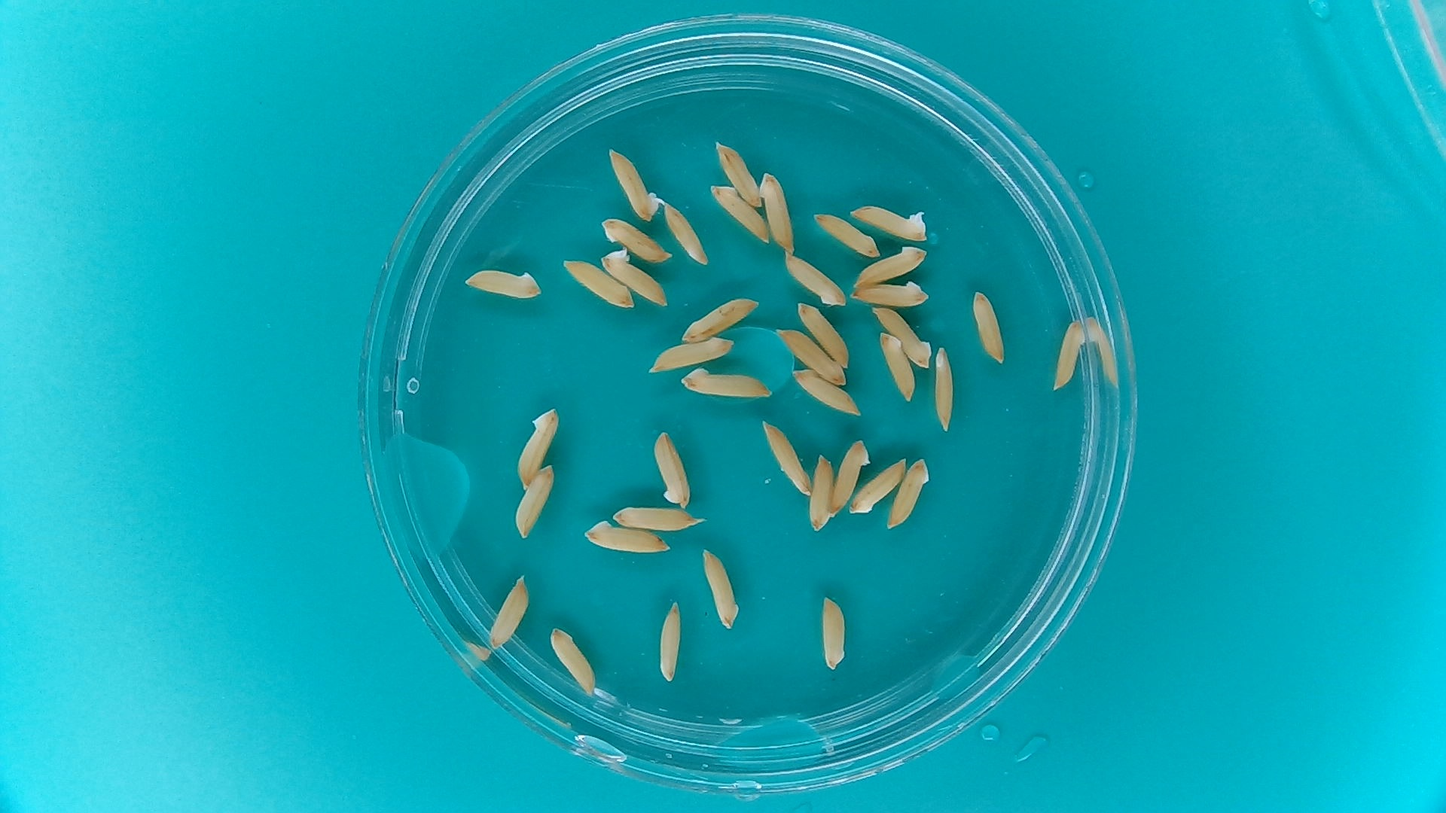no: (601, 246, 670, 308), (607, 147, 663, 222), (776, 328, 847, 385), (871, 306, 932, 370), (763, 419, 813, 496), (515, 408, 561, 491), (709, 184, 770, 245), (848, 199, 932, 243), (791, 367, 863, 418), (563, 259, 635, 309), (796, 301, 850, 367), (681, 297, 758, 342), (650, 428, 693, 508), (849, 458, 908, 515), (828, 439, 871, 517), (786, 252, 848, 306), (487, 575, 531, 651), (550, 626, 597, 696), (601, 218, 673, 262), (758, 171, 796, 254), (515, 464, 557, 539), (887, 456, 929, 531), (855, 245, 928, 288), (715, 142, 763, 207), (702, 549, 740, 631), (648, 337, 734, 373), (583, 519, 673, 553), (812, 213, 880, 257), (680, 367, 774, 398), (663, 201, 708, 265), (972, 288, 1007, 366), (1051, 318, 1088, 391), (464, 269, 542, 300), (880, 333, 915, 402), (819, 591, 848, 673), (612, 507, 707, 531), (807, 454, 835, 531), (658, 598, 683, 684), (851, 281, 931, 307), (932, 345, 955, 434)
